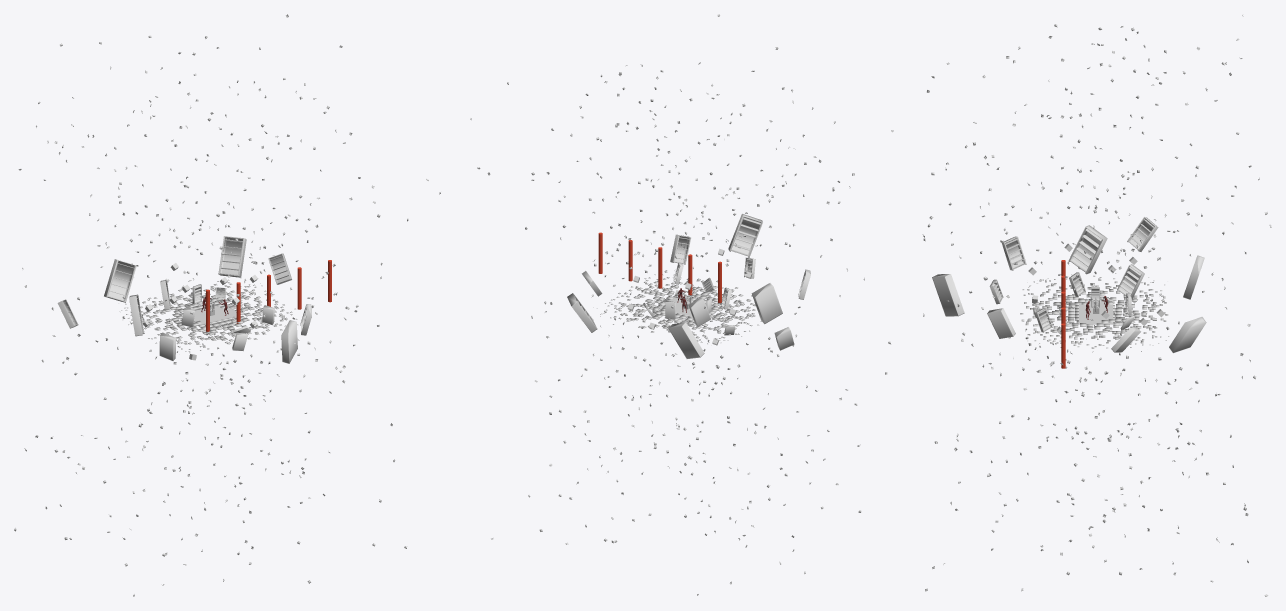
The model's file is PL_LBVR_SC08_v01.fbx.
3 views of the same model, side by side, from view 1: azimuth 30°, elevation 25°; view 2: azimuth 150°, elevation 25°; view 3: azimuth 270°, elevation 25° (orthographic). The views are drawn at different scales.
Visible parts, largest first — view 1: Cloner_1.001, Cube_1_194.001, Old_Dusty_Bookshelf.023, Old_Dusty_Bookshelf.028, DEIXAR EM TODOS OS LEVELS P/ REF, Old_Dusty_Bookshelf.035; view 2: Cloner_1.001, Cube_1_194.001, DEIXAR EM TODOS OS LEVELS P/ REF, Old_Dusty_Bookshelf.035, Old_Dusty_Bookshelf.022, Old_Dusty_Bookshelf.028; view 3: Cloner_1.001, Cube_1_194.001, Old_Dusty_Bookshelf.022, Old_Dusty_Bookshelf.035, Old_Dusty_Bookshelf.023, 04.004, Old_Dusty_Bookshelf.029, Old_Dusty_Bookshelf.025, Old_Dusty_Bookshelf.021, Old_Dusty_Bookshelf.020, DEIXAR EM TODOS OS LEVELS P/ REF.
Part boxes in pixels (bbox=[...]): Cloner_1.001: bbox=[14, 14, 440, 596]; Cube_1_194.001: bbox=[119, 275, 298, 354]; Old_Dusty_Bookshelf.023: bbox=[218, 236, 246, 277]; Old_Dusty_Bookshelf.028: bbox=[104, 259, 136, 302]; DEIXAR EM TODOS OS LEVELS P/ REF: bbox=[206, 260, 331, 331]; Old_Dusty_Bookshelf.035: bbox=[281, 320, 297, 363]; Cloner_1.001: bbox=[470, 14, 893, 595]; Cube_1_194.001: bbox=[593, 273, 761, 345]; DEIXAR EM TODOS OS LEVELS P/ REF: bbox=[598, 232, 721, 303]; Old_Dusty_Bookshelf.035: bbox=[728, 214, 762, 257]; Old_Dusty_Bookshelf.022: bbox=[751, 283, 782, 324]; Old_Dusty_Bookshelf.028: bbox=[668, 322, 704, 358]; Cloner_1.001: bbox=[922, 14, 1271, 596]; Cube_1_194.001: bbox=[1020, 273, 1169, 351]; Old_Dusty_Bookshelf.022: bbox=[1068, 225, 1107, 274]; Old_Dusty_Bookshelf.035: bbox=[932, 274, 964, 316]; Old_Dusty_Bookshelf.023: bbox=[1169, 317, 1206, 353]; 04.004: bbox=[1079, 301, 1112, 324]; Old_Dusty_Bookshelf.029: bbox=[1127, 217, 1158, 251]; Old_Dusty_Bookshelf.025: bbox=[987, 308, 1015, 338]; Old_Dusty_Bookshelf.021: bbox=[1002, 236, 1026, 270]; Old_Dusty_Bookshelf.020: bbox=[1117, 264, 1144, 298]; DEIXAR EM TODOS OS LEVELS P/ REF: bbox=[1061, 260, 1065, 368].
Size of the model in its own units: 3680 by 5154 by 3248.
